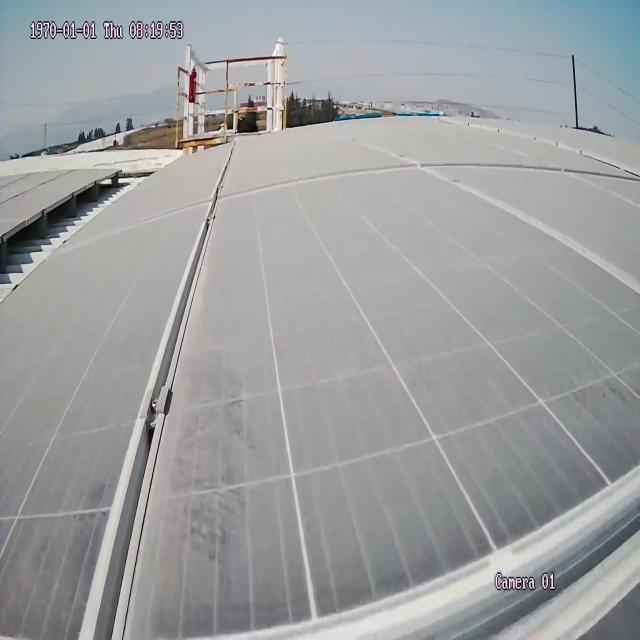interior panel: (49, 129, 640, 640)
outher panel: (0, 164, 154, 333)
